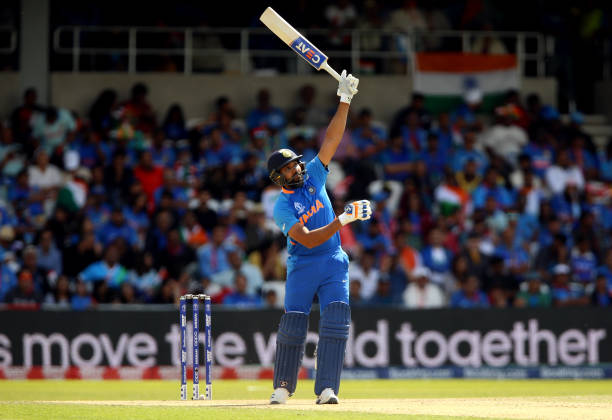bottom left: (262, 2, 277, 17)
bottom right: (250, 12, 268, 30)
top left: (321, 51, 335, 65)
top right: (313, 61, 327, 75)
